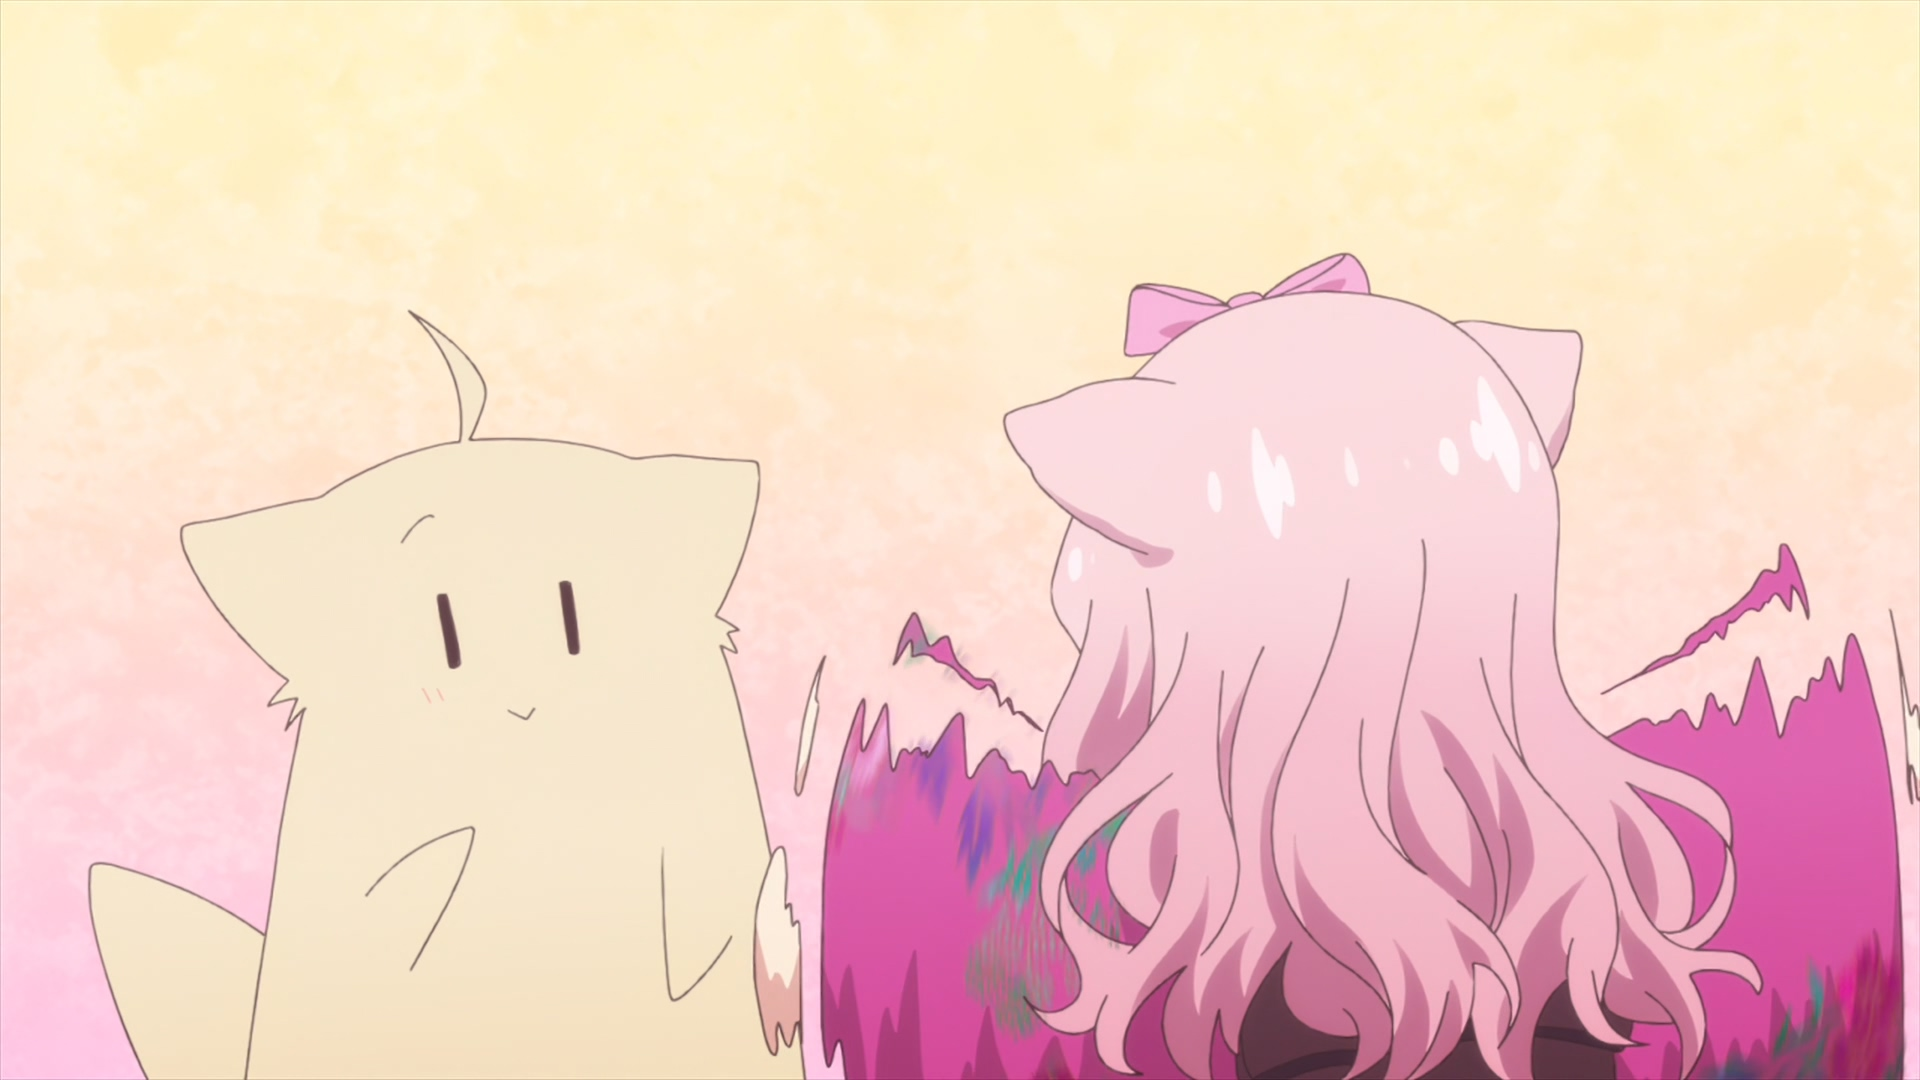柚: (90, 313, 804, 1080)
莲: (753, 253, 1920, 1080)
